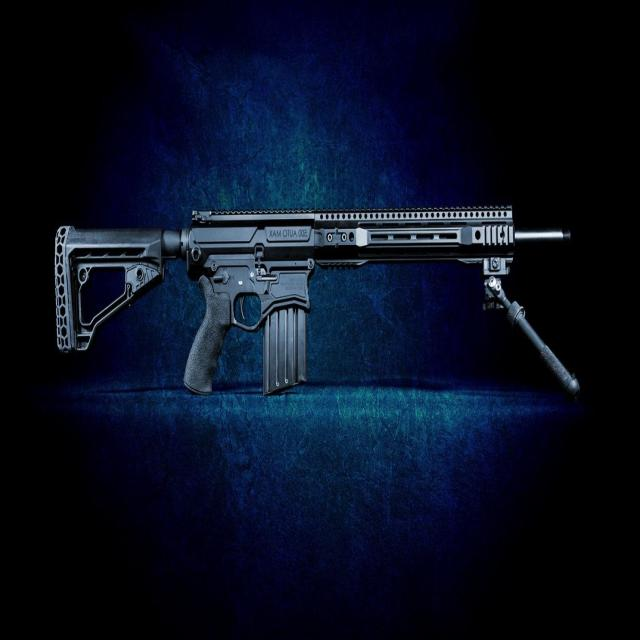Rifle: (53, 206, 516, 397)
